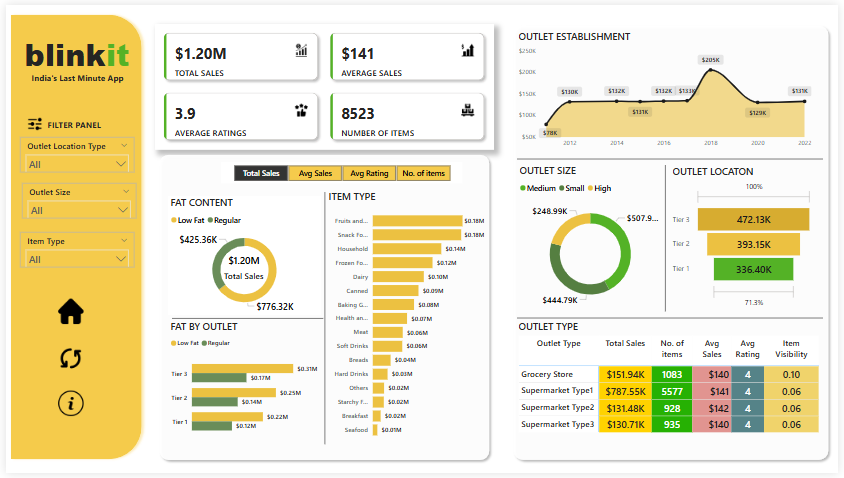

Layout of this report page (visuals, bound fields, positions):
{"tool":"powerbi","page":{"name":"Dashboard","canvas":[1600,900],"ordinal":0},"visuals":[{"type":"shape","box":[0,10,270,873.3],"z":0},{"type":"textbox","box":[30,48.6,232.9,95.7],"z":1000},{"type":"textbox","box":[44.3,125.7,205.7,37.1],"z":2000},{"type":"cardVisual","fields":{"Data":["BlinkIT Grocery Data.Total Sales","BlinkIT Grocery Data.Avg Sales","BlinkIT Grocery Data.Avg Rating","BlinkIT Grocery Data.Number of items"]},"box":[286.7,36.7,651.7,241.7],"z":3000},{"type":"shape","box":[286.7,278.3,651.7,605],"z":4000},{"type":"donutChart","title":"FAT CONTENT","fields":{"Y":["BlinkIT Grocery Data.Total Sales"],"Category":["BlinkIT Grocery Data.Item Fat Content"]},"box":[311.7,367.3,294.3,228.6],"z":5000},{"type":"slicer","fields":{"Values":["Metrics.Metrics"]},"box":[413.2,301.6,464.5,40.7],"z":6000},{"type":"card","fields":{"Values":["BlinkIT Grocery Data.Total Sales"]},"box":[406.7,456.7,103.3,95],"z":7000},{"type":"clusteredBarChart","title":"FAT BY OUTLET","fields":{"Y":["BlinkIT Grocery Data.Total Sales"],"Category":["BlinkIT Grocery Data.Outlet Location Type"],"Series":["BlinkIT Grocery Data.Item Fat Content"]},"box":[311.7,606.7,295,238.3],"z":8000},{"type":"shape","box":[320,580,291.4,44.3],"z":9000},{"type":"shape","box":[595,360,38.3,485],"z":10000},{"type":"barChart","title":"ITEM TYPE","fields":{"Y":["BlinkIT Grocery Data.Total Sales"],"Category":["BlinkIT Grocery Data.Item Type"]},"box":[615,356.7,310,488.3],"z":11000},{"type":"shape","box":[966.7,30,623.3,853.3],"z":12000},{"type":"lineChart","title":"OUTLET ESTABLISHMENT","fields":{"Category":["BlinkIT Grocery Data.Outlet Establishment Year"],"Y":["BlinkIT Grocery Data.Total Sales"]},"box":[981.7,48.3,573.3,235],"z":13000},{"type":"shape","box":[981.7,279,588.1,34.7],"z":14000},{"type":"donutChart","title":"OUTLET SIZE","fields":{"Y":["BlinkIT Grocery Data.Total Sales"],"Category":["BlinkIT Grocery Data.Outlet Size"]},"box":[981.7,306.1,282,289.5],"z":15000},{"type":"shape","box":[1248.3,308.3,40,281.7],"z":16000},{"type":"funnel","title":"OUTLET LOCATON","fields":{"Y":["Sum(BlinkIT Grocery Data.Sales)"],"Category":["BlinkIT Grocery Data.Outlet Location Type"]},"box":[1276.7,308.3,278.3,280],"z":17000},{"type":"shape","box":[981.7,585.1,588.1,34.7],"z":18000},{"type":"pivotTable","title":"OUTLET TYPE","fields":{"Rows":["BlinkIT Grocery Data.Outlet Type"],"Values":["BlinkIT Grocery Data.Total Sales","BlinkIT Grocery Data.No. of items","BlinkIT Grocery Data.Avg Sales","BlinkIT Grocery Data.Avg Rating","Sum(BlinkIT Grocery Data.Item Visibility)"]},"box":[981.7,606.7,588.3,238.3],"z":19000},{"type":"slicer","fields":{"Values":["BlinkIT Grocery Data.Outlet Location Type"]},"box":[26.7,253.3,220,68.3],"z":20000},{"type":"slicer","fields":{"Values":["BlinkIT Grocery Data.Outlet Size"]},"box":[30,341.7,220,68.3],"z":21000},{"type":"slicer","fields":{"Values":["BlinkIT Grocery Data.Item Type"]},"box":[26.7,436.7,220,68.3],"z":22000},{"type":"textbox","box":[74.2,215.7,123.7,37.7],"z":23000},{"type":"image","box":[95,559.5,60.3,58.8],"z":24000},{"type":"image","box":[36.5,206.6,37.7,46.7],"z":25000},{"type":"image","box":[95,650,60.3,58.8],"z":26000},{"type":"image","box":[95,737.4,60.3,58.8],"z":28000}]}

Visuals, with their boxes in screenshot pixels (x1, y1, x2, y2), scaled from the page's 1600x900 canvas onto the 844x478 screenshot:
shape: pyautogui.locateOnScreen(0, 5, 142, 469)
textbox: pyautogui.locateOnScreen(16, 26, 139, 77)
textbox: pyautogui.locateOnScreen(23, 67, 132, 86)
cardVisual - BlinkIT Grocery Data.Total Sales x BlinkIT Grocery Data.Avg Sales: pyautogui.locateOnScreen(151, 19, 495, 148)
shape: pyautogui.locateOnScreen(151, 148, 495, 469)
"FAT CONTENT" donutChart: pyautogui.locateOnScreen(164, 195, 320, 316)
slicer - Metrics.Metrics: pyautogui.locateOnScreen(218, 160, 463, 182)
card - BlinkIT Grocery Data.Total Sales: pyautogui.locateOnScreen(215, 243, 269, 293)
"FAT BY OUTLET" clusteredBarChart: pyautogui.locateOnScreen(164, 322, 320, 449)
shape: pyautogui.locateOnScreen(169, 308, 323, 332)
shape: pyautogui.locateOnScreen(314, 191, 334, 449)
"ITEM TYPE" barChart: pyautogui.locateOnScreen(324, 189, 488, 449)
shape: pyautogui.locateOnScreen(510, 16, 839, 469)
"OUTLET ESTABLISHMENT" lineChart: pyautogui.locateOnScreen(518, 26, 820, 150)
shape: pyautogui.locateOnScreen(518, 148, 828, 167)
"OUTLET SIZE" donutChart: pyautogui.locateOnScreen(518, 163, 667, 316)
shape: pyautogui.locateOnScreen(658, 164, 680, 313)
"OUTLET LOCATON" funnel: pyautogui.locateOnScreen(673, 164, 820, 312)
shape: pyautogui.locateOnScreen(518, 311, 828, 329)
"OUTLET TYPE" pivotTable: pyautogui.locateOnScreen(518, 322, 828, 449)
slicer - BlinkIT Grocery Data.Outlet Location Type: pyautogui.locateOnScreen(14, 135, 130, 171)
slicer - BlinkIT Grocery Data.Outlet Size: pyautogui.locateOnScreen(16, 181, 132, 218)
slicer - BlinkIT Grocery Data.Item Type: pyautogui.locateOnScreen(14, 232, 130, 268)
textbox: pyautogui.locateOnScreen(39, 115, 104, 135)
image: pyautogui.locateOnScreen(50, 297, 82, 328)
image: pyautogui.locateOnScreen(19, 110, 39, 135)
image: pyautogui.locateOnScreen(50, 345, 82, 376)
image: pyautogui.locateOnScreen(50, 392, 82, 423)
